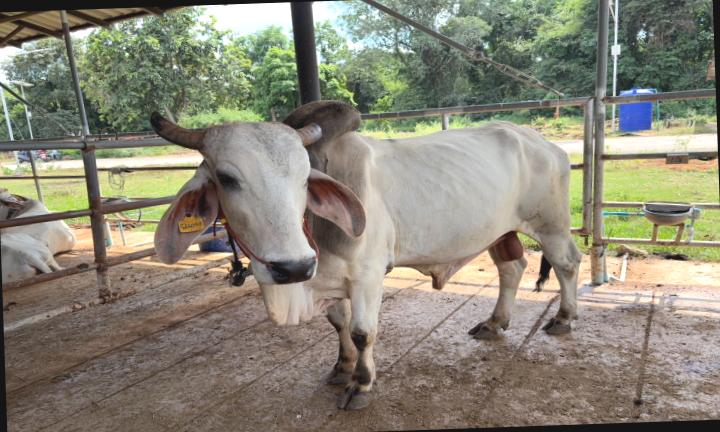Brahman: (150, 101, 581, 410)
